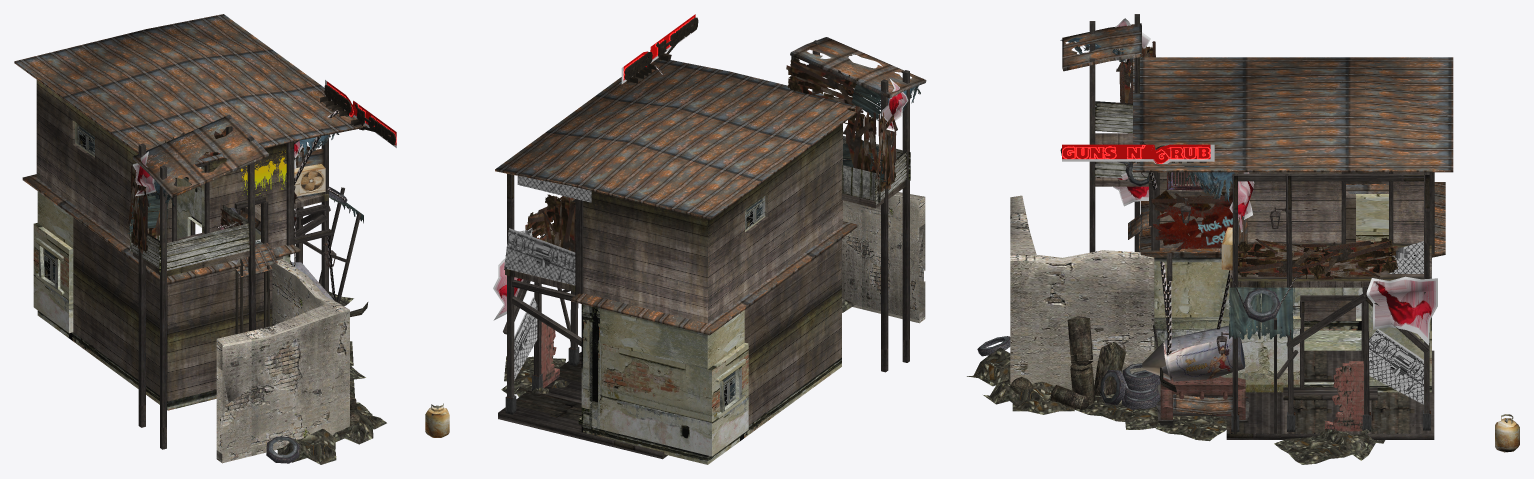
File: Frontier Shopfront.fbx
The picture shows the model from 3 angles, left to right: view 1: azimuth 30°, elevation 25°; view 2: azimuth 150°, elevation 25°; view 3: azimuth 270°, elevation 25°; orthographic projection. The views are drawn at different scales.
Parts seen in each view (by area): view 1: Cube, Plane.008, wood beam.002, Cube.017, Cube.019, Cube.018, Plane.005, scrap wall.005, Cube.046, Cube.062, Cube.003, Cube.028 (+11 smaller); view 2: Cube, Cube.026, Plane.008, fence.002, Cube.017, scrap wall.006, Cube.019, scrap wall.004, scrap wall.009, Cube.004, scrap wall.005, wood beam.003 (+15 smaller); view 3: Cube, Cube.026, Cylinder.013, metal wall plate, cloth1, guns n grub.002, scrap wall.001, fence.004, Plane, scrap wall, Plane.008, Cube.001 (+34 smaller).
Boxes of the visible parts, x1,y1,x2,y2 form: Cube: (14,14,367,463); Plane.008: (133,114,268,197); wood beam.002: (159,223,249,272); Cube.017: (160,165,166,449); Cube.019: (138,143,145,427); Cube.018: (247,136,255,331); Plane.005: (277,429,336,464); scrap wall.005: (128,165,149,253); Cube.046: (286,142,294,245); Cube.062: (294,164,325,196); Cube.003: (321,137,328,293); Cube.028: (324,85,395,145); Cube: (495,58,925,464); Cube.026: (498,352,667,459); Plane.008: (790,37,926,98); fence.002: (504,228,575,285); Cube.017: (902,70,909,362); scrap wall.006: (786,58,863,113); Cube.019: (881,79,888,372); scrap wall.004: (843,106,881,175); scrap wall.009: (542,194,575,252); Cube.004: (507,173,514,397); scrap wall.005: (875,112,897,193); wood beam.003: (842,165,880,202); Cube: (1010,57,1453,392); Cube.026: (1226,350,1434,439); Cylinder.013: (1142,324,1245,392); metal wall plate: (1151,190,1232,250); cloth1: (1366,276,1437,345); guns n grub.002: (1062,144,1214,163); scrap wall.001: (1238,238,1328,279); fence.004: (1369,329,1423,404); Plane: (1229,287,1294,339); scrap wall: (1307,237,1397,279); Plane.008: (1062,23,1141,71); Cube.001: (1230,242,1431,287).
Size of what is drawn, in the model's own units: 573 by 399 by 366.
